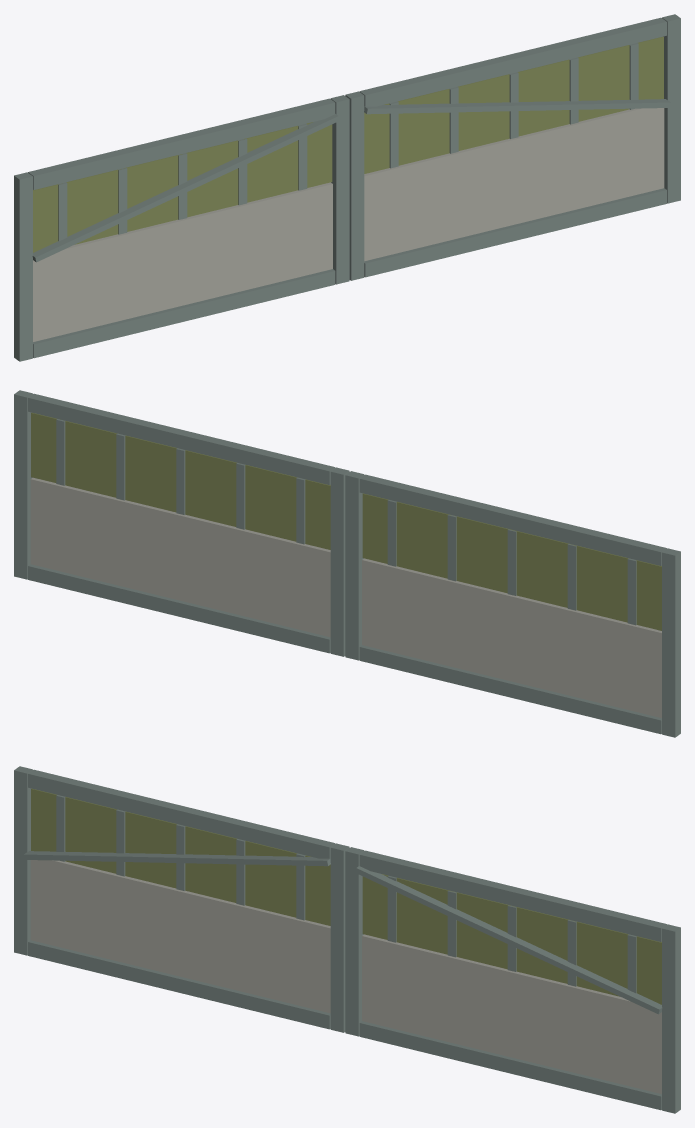
Rendered from SM_PuertaVehiculos_v0_LOD1.fbx.
3 views of the same model, one above another, from view 1: azimuth 30°, elevation 25°; view 2: azimuth 150°, elevation 25°; view 3: azimuth 330°, elevation 25° (orthographic).
Parts seen in each view (by area): view 1: Hoja_O, Hoja_E; view 2: Hoja_O, Hoja_E; view 3: Hoja_E, Hoja_O.
Boxes of the visible parts, x1=… form: Hoja_O: x1=14, y1=95, x2=349, y2=361; Hoja_E: x1=345, y1=14, x2=680, y2=280; Hoja_O: x1=345, y1=471, x2=680, y2=737; Hoja_E: x1=14, y1=390, x2=349, y2=656; Hoja_E: x1=345, y1=847, x2=680, y2=1113; Hoja_O: x1=14, y1=766, x2=349, y2=1032.
Size of what is drawn, in the model's own units: 7.98 by 2.1 by 0.18.
